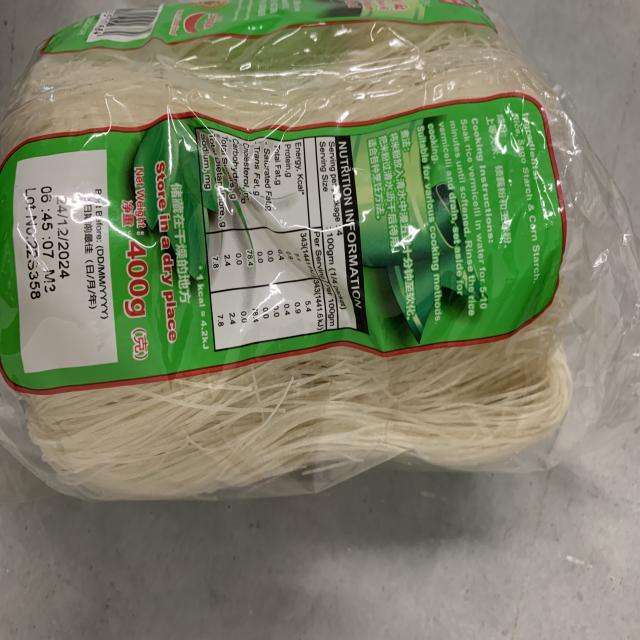object_name: (6, 20, 578, 473)
